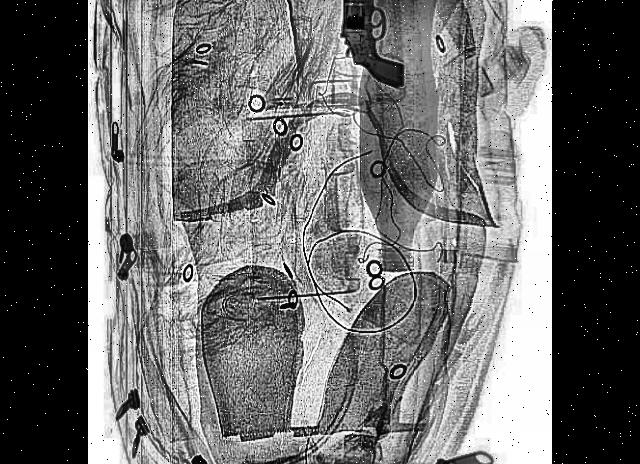Gun: (314, 0, 420, 113)
